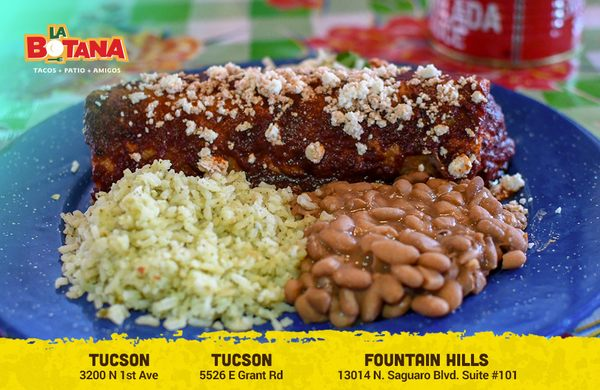burger: (427, 0, 579, 88)
sushi: (75, 51, 522, 334)
